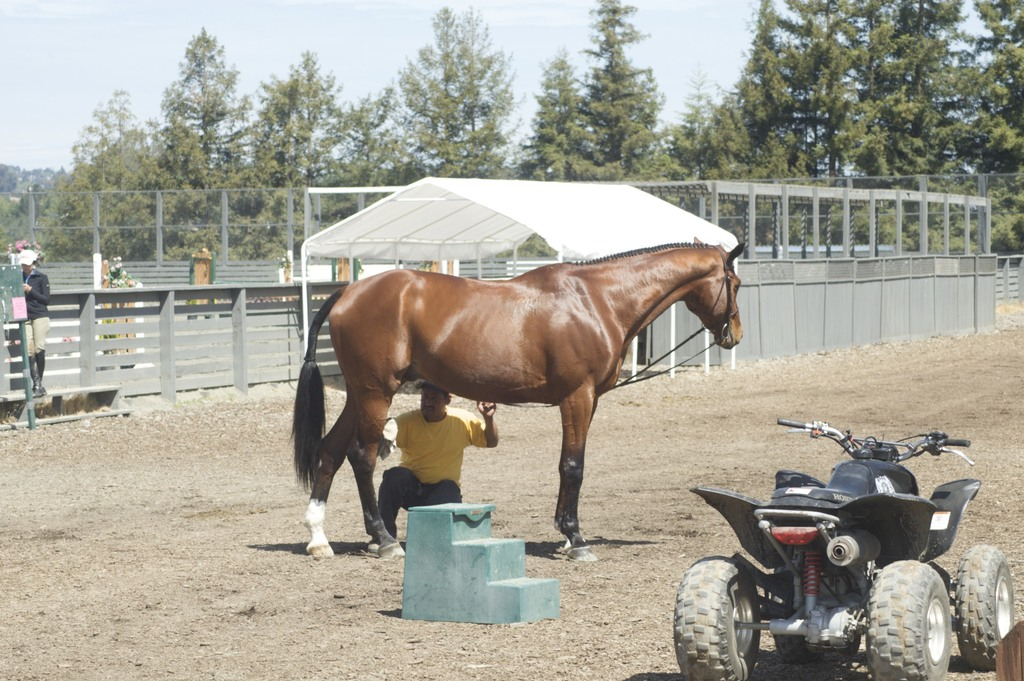horse: (288, 236, 747, 560)
